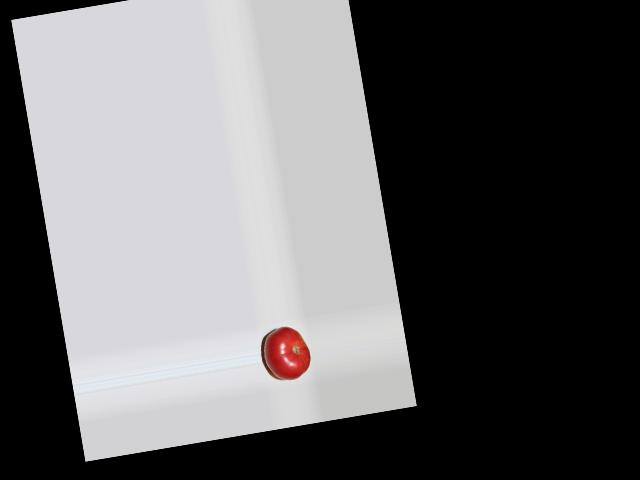tomato: (261, 323, 314, 384)
